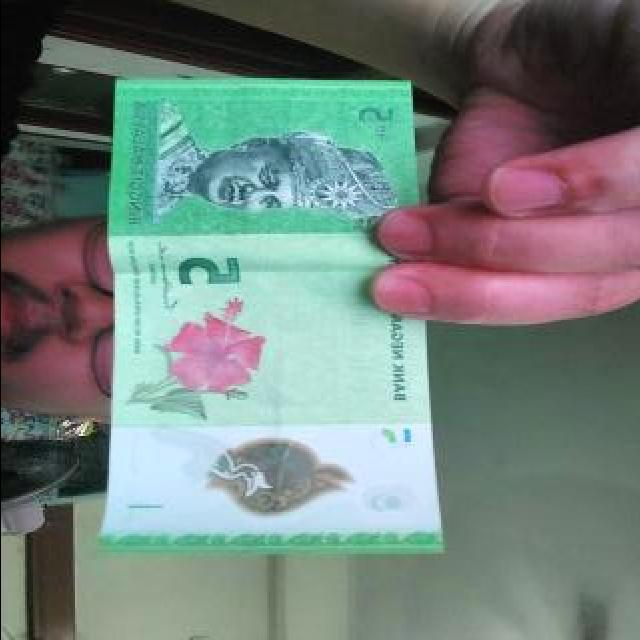5 Ringgit: (109, 68, 436, 571)
